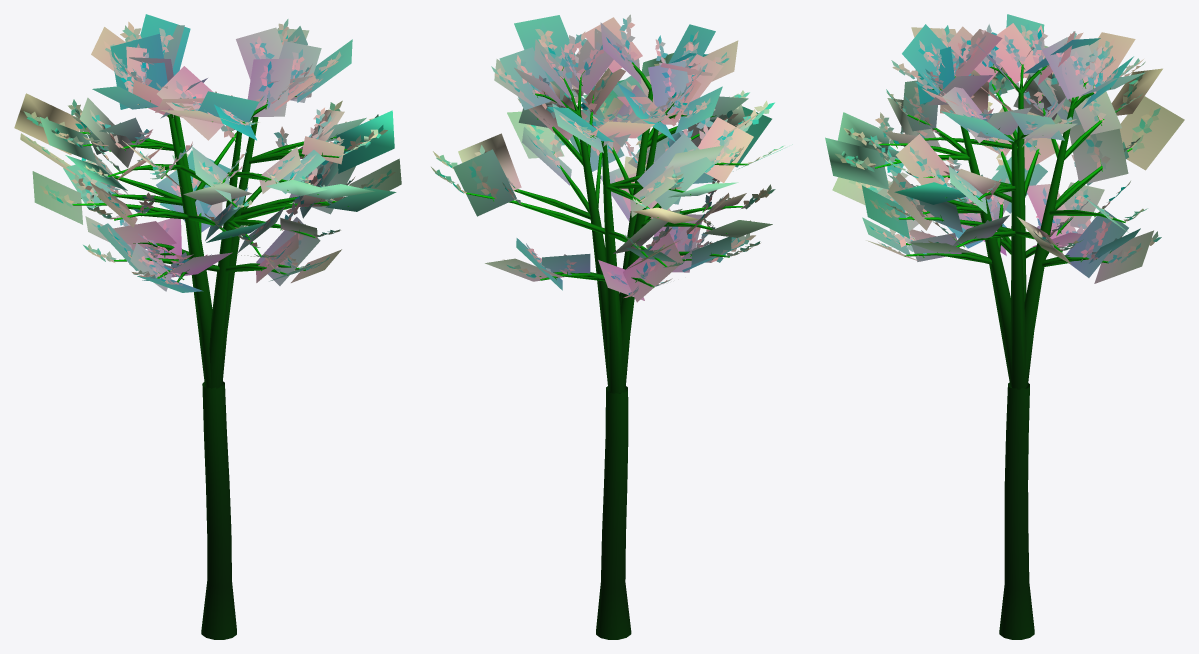
File: tall_shade_3.glb
The picture shows the model from 3 angles, left to right: view 1: azimuth 30°, elevation 25°; view 2: azimuth 150°, elevation 25°; view 3: azimuth 270°, elevation 25°; orthographic projection.
Parts seen in each view (by area): view 1: mid, near; view 2: mid, near; view 3: mid, near.
Part boxes in pixels (x1=…): mid: x1=14, y1=14, x2=401, y2=388; near: x1=23, y1=19, x2=395, y2=639; mid: x1=453, y1=15, x2=792, y2=393; near: x1=431, y1=14, x2=784, y2=639; mid: x1=825, y1=14, x2=1184, y2=389; near: x1=835, y1=23, x2=1161, y2=639.
Bounding box in the file's own units: 12.88 × 22.19 × 12.46.
